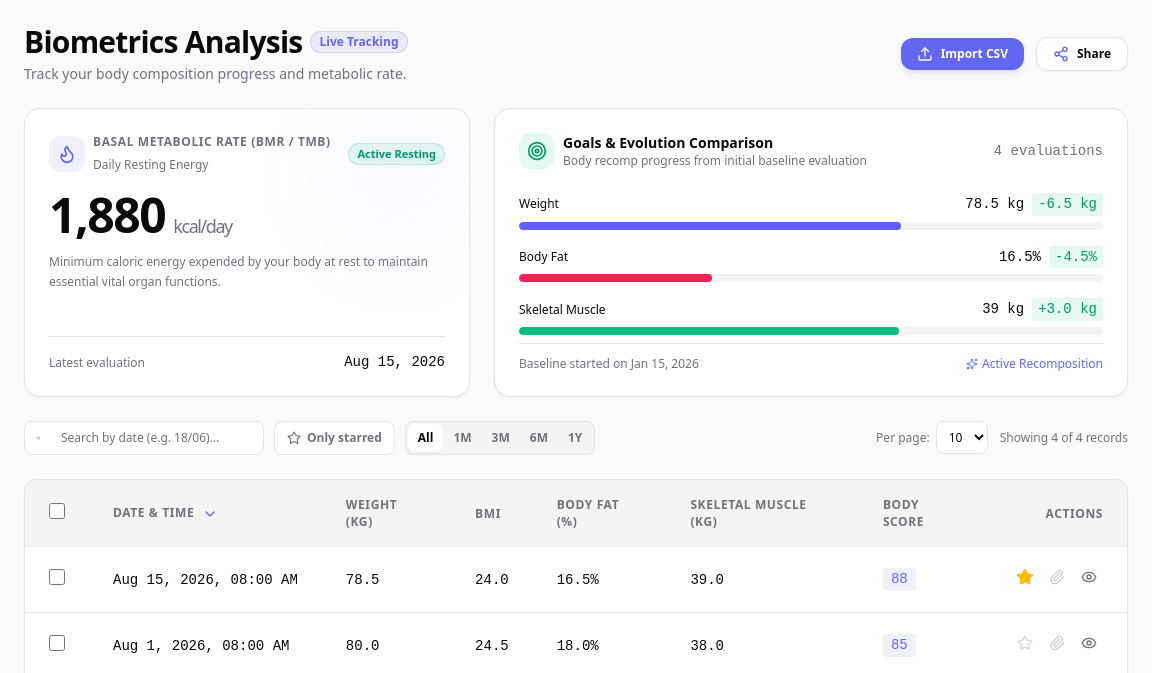
Biometrics View Component › closes record details drawer when pressing Escape key
The width and height of the screenshot is (1152, 673).
Click the button named "Details" in the row of "Aug 15, 2026, 08:00 AM".
click(1089, 577)  # box [1075, 563, 1103, 591]
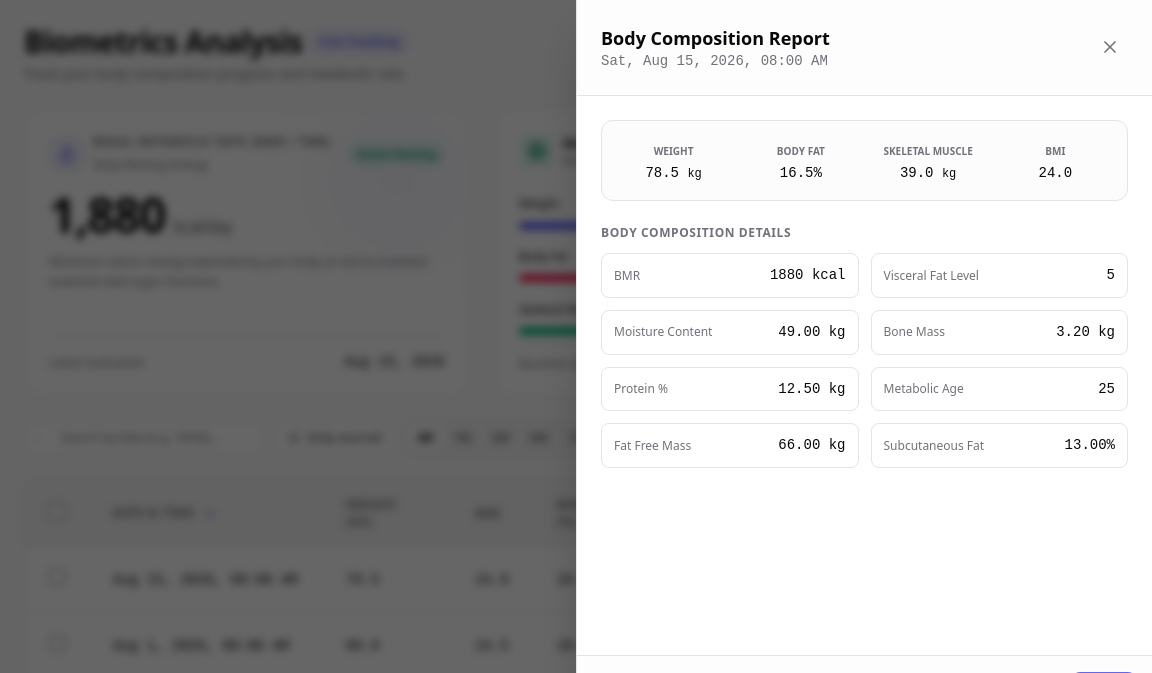
Result: the heading "Body Composition Report" is shown at [601, 24, 830, 52]
Press Escape
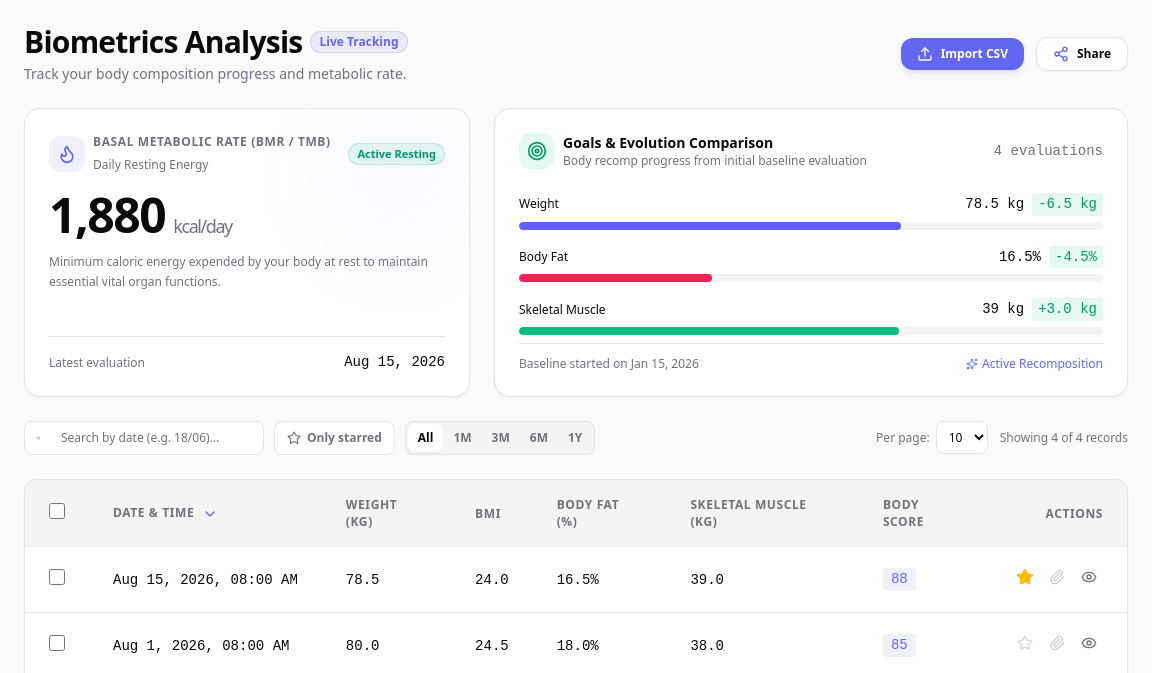
Result: the heading "Body Composition Report" is gone
